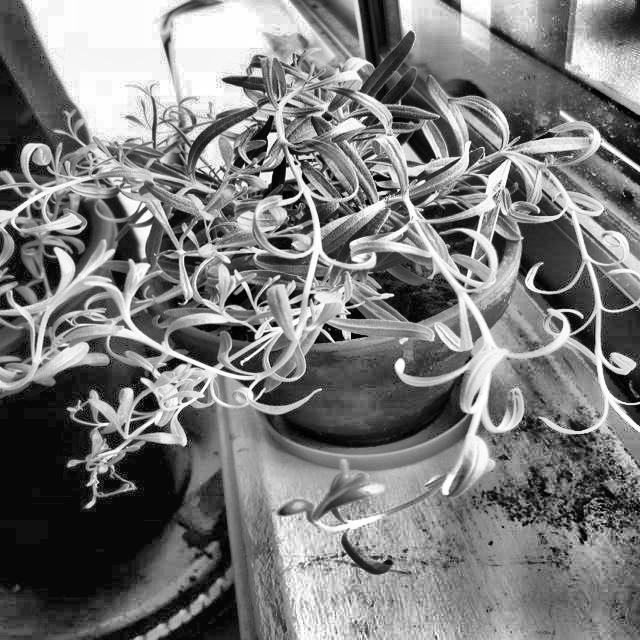plants: (4, 122, 608, 548)
